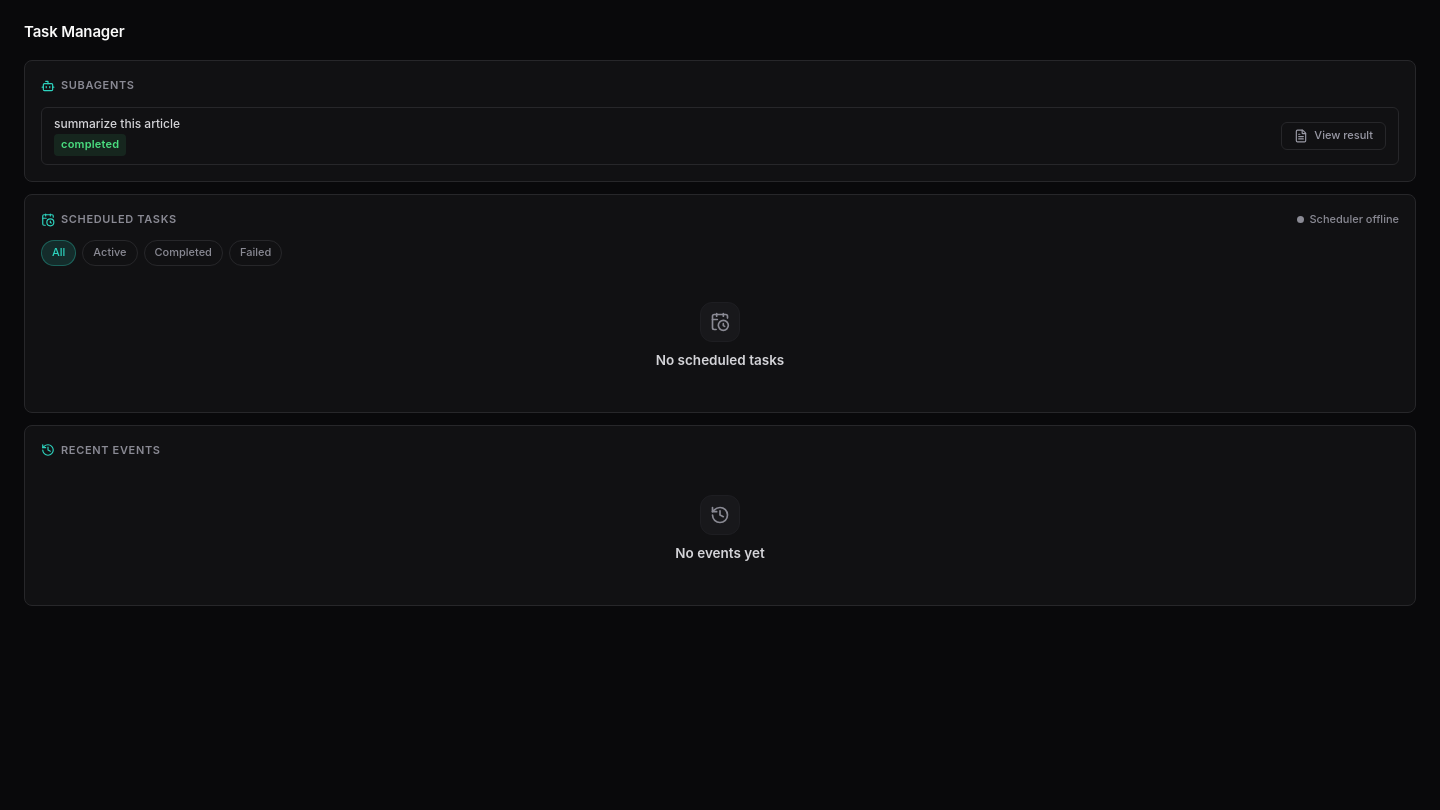
Test case: TaskManager › opens the subagent result modal when the row has a result
Click the button with test id "view-subagent-result" at point(1334, 136), box [1281,122,1386,150]
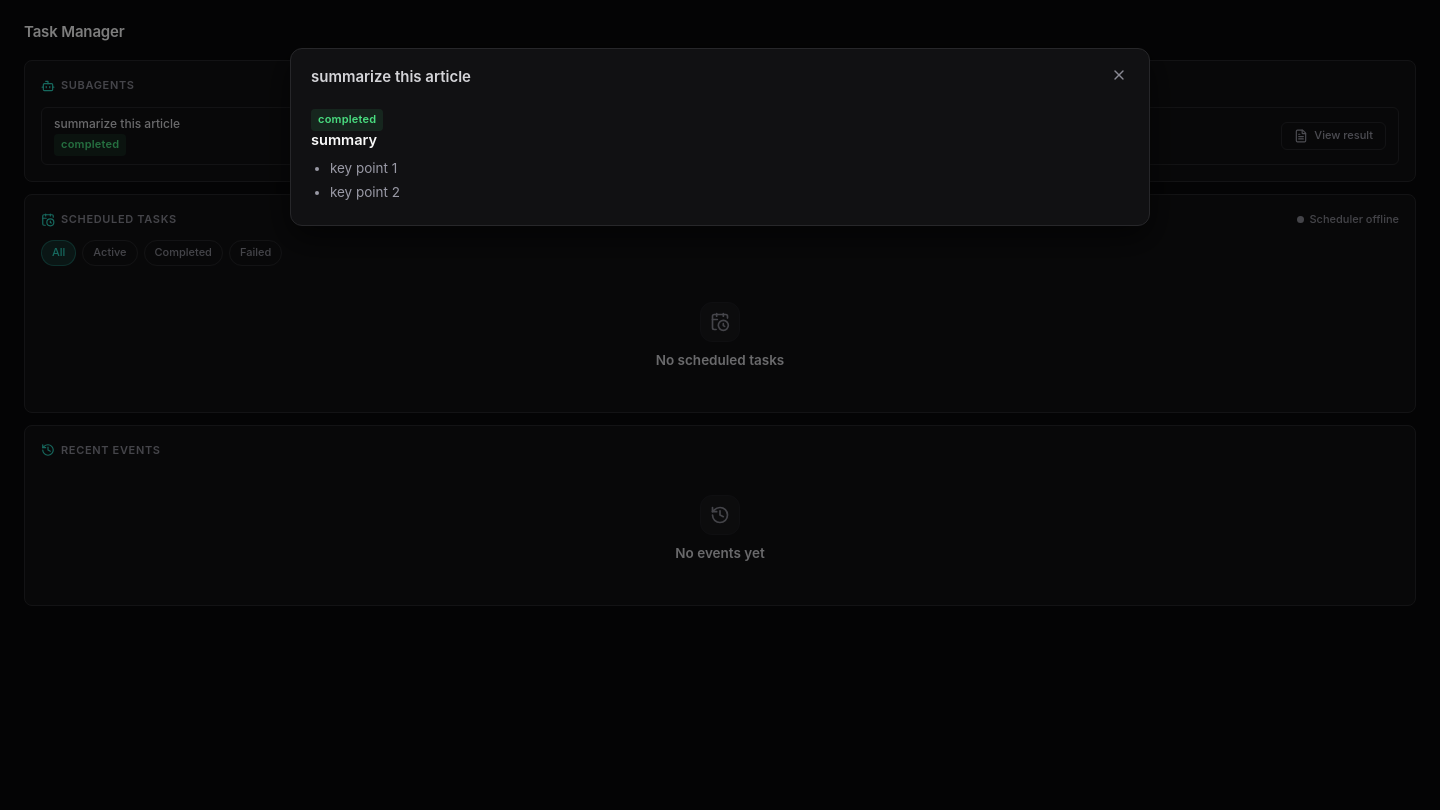
Check: the dialog with test id "modal" is shown, box [290,48,1150,226]
Check: the dialog with test id "modal" shows "key point 1", box [330,160,397,176]
Check: the dialog with test id "modal" shows "key point 2", box [330,184,400,200]
